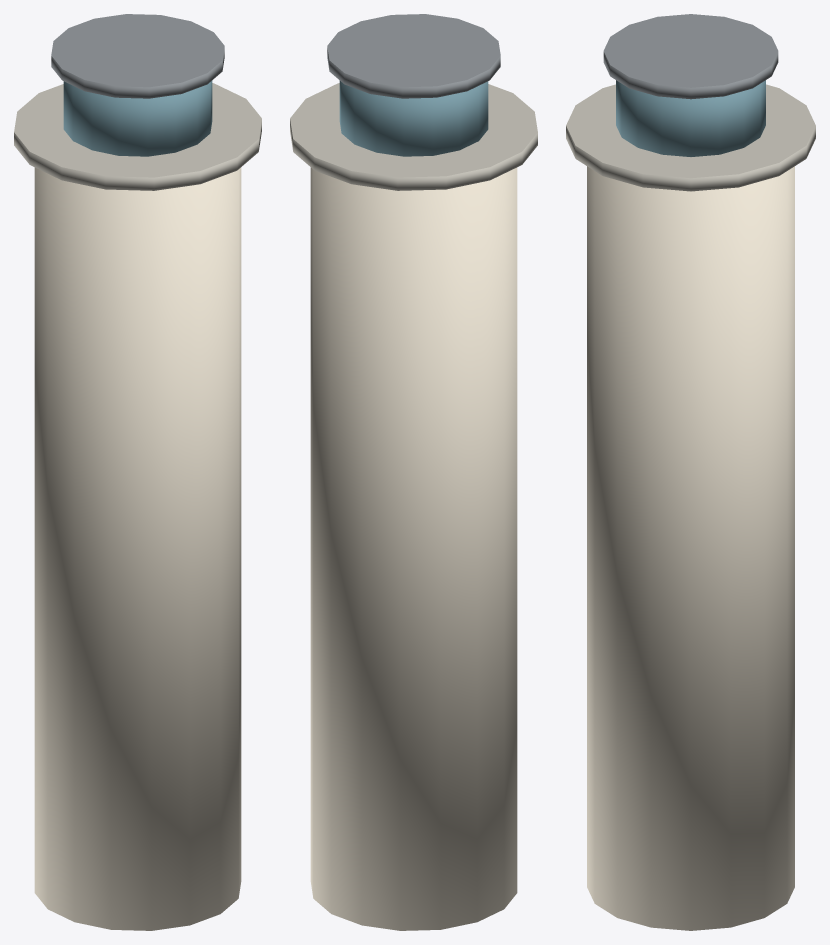
File: tyne-lighthouse_lod0.glb
The picture shows the model from 3 angles, left to right: view 1: azimuth 30°, elevation 25°; view 2: azimuth 150°, elevation 25°; view 3: azimuth 270°, elevation 25°; orthographic projection.
Parts seen in each view (by area): view 1: RF_LighthouseTower, RF_LanternWalk, RF_LanternRoof, RF_Lantern; view 2: RF_LighthouseTower, RF_LanternWalk, RF_LanternRoof, RF_Lantern; view 3: RF_LighthouseTower, RF_LanternWalk, RF_LanternRoof, RF_Lantern.
Part boxes in pixels (bbox=[...]): RF_LighthouseTower: bbox=[34, 167, 241, 930]; RF_LanternWalk: bbox=[14, 83, 261, 190]; RF_LanternRoof: bbox=[51, 14, 224, 98]; RF_Lantern: bbox=[63, 80, 212, 156]; RF_LighthouseTower: bbox=[310, 167, 517, 930]; RF_LanternWalk: bbox=[290, 83, 537, 190]; RF_LanternRoof: bbox=[327, 14, 500, 98]; RF_Lantern: bbox=[339, 80, 488, 156]; RF_LighthouseTower: bbox=[587, 166, 794, 930]; RF_LanternWalk: bbox=[566, 84, 815, 191]; RF_LanternRoof: bbox=[603, 14, 778, 99]; RF_Lantern: bbox=[616, 80, 765, 156].
Size of the model in its own units: 6 by 22.15 by 6.
